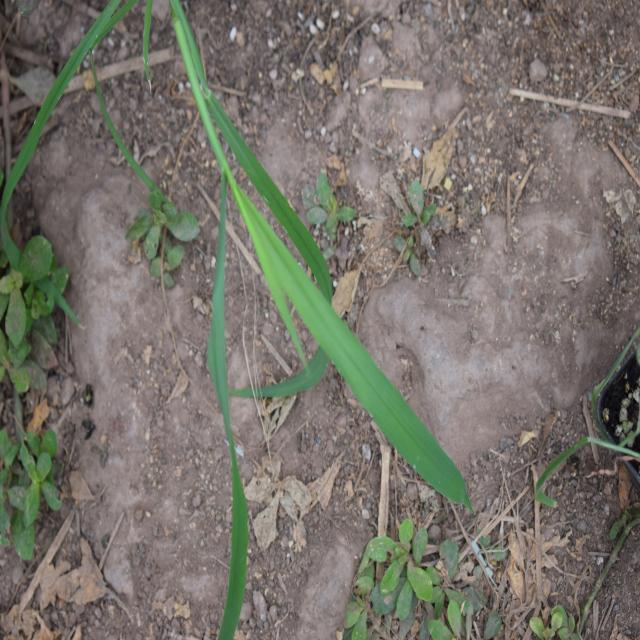crabgrass: (160, 91, 430, 562)
